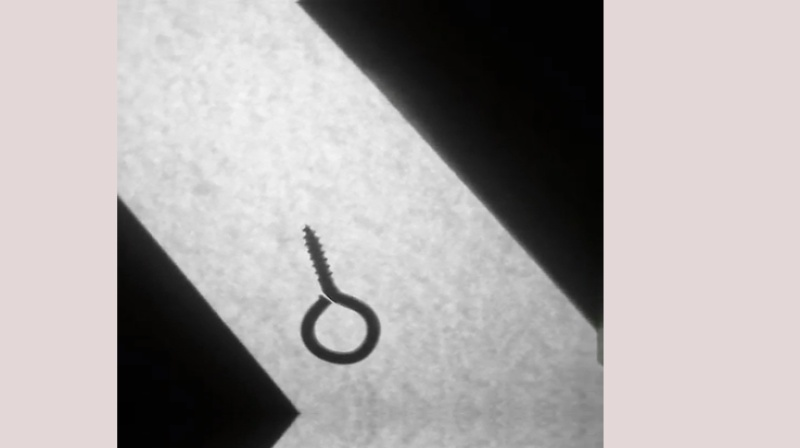O001: (297, 221, 384, 367)
